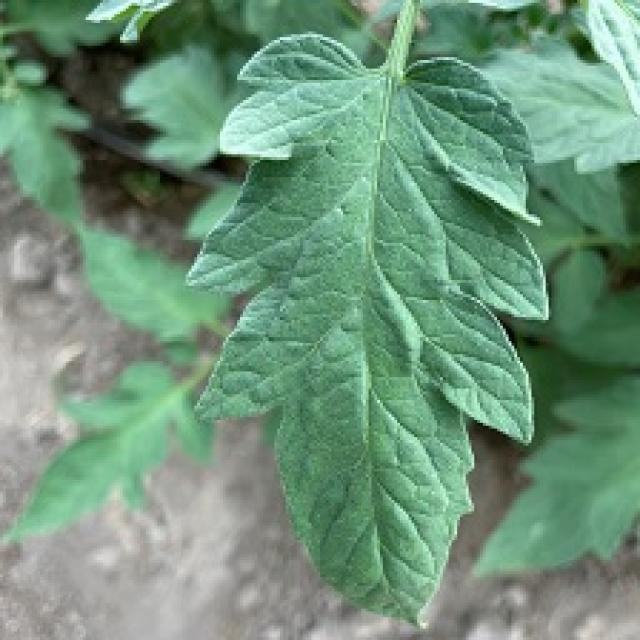Healthy: (172, 0, 570, 633)
